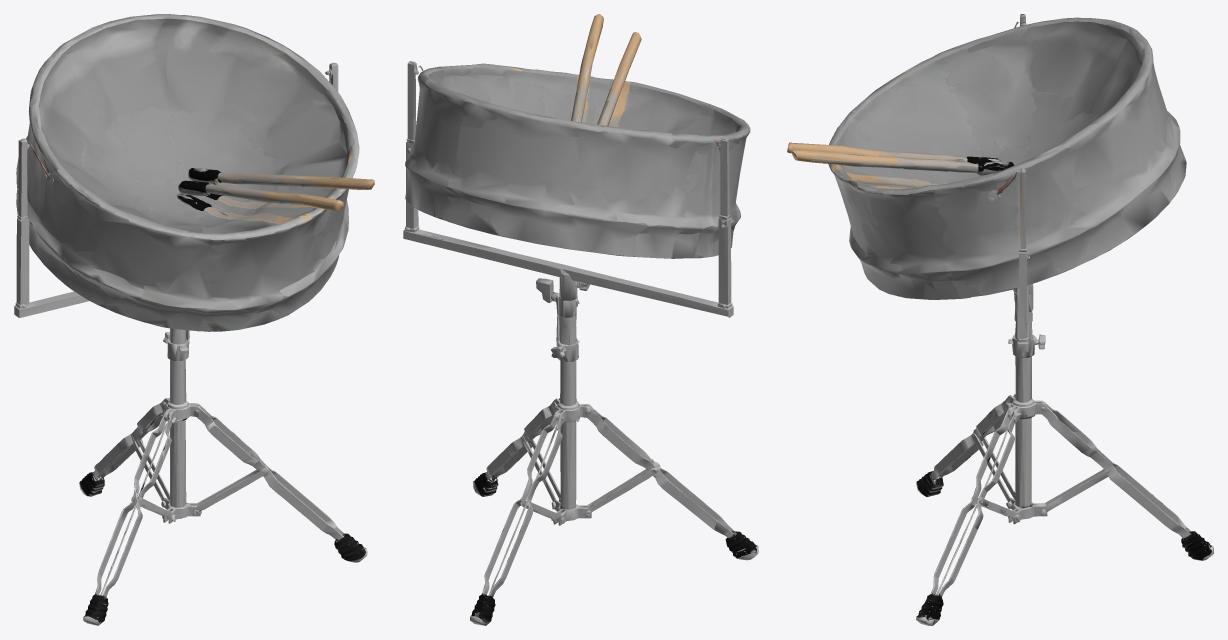
Rendered from PAN_FALDA_16_NOTAS_8-optimized.glb.
3 renders of one model, left to right at view 1: azimuth 30°, elevation 25°; view 2: azimuth 150°, elevation 25°; view 3: azimuth 270°, elevation 25°, orthographic. The views are drawn at different scales.
Parts seen in each view (by area): view 1: output_unwrapped; view 2: output_unwrapped; view 3: output_unwrapped.
Part boxes in pixels (x1,y1,x2,y2): output_unwrapped: (14, 14, 374, 625); output_unwrapped: (403, 14, 758, 625); output_unwrapped: (787, 14, 1213, 625).
Bounding box in the file's own units: 1.31 × 1.9 × 1.46.
Materials: 1 (1 with a texture image).
